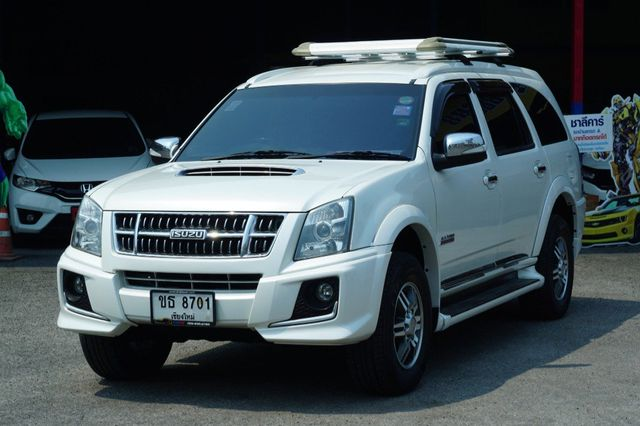pickup: (56, 38, 585, 393)
